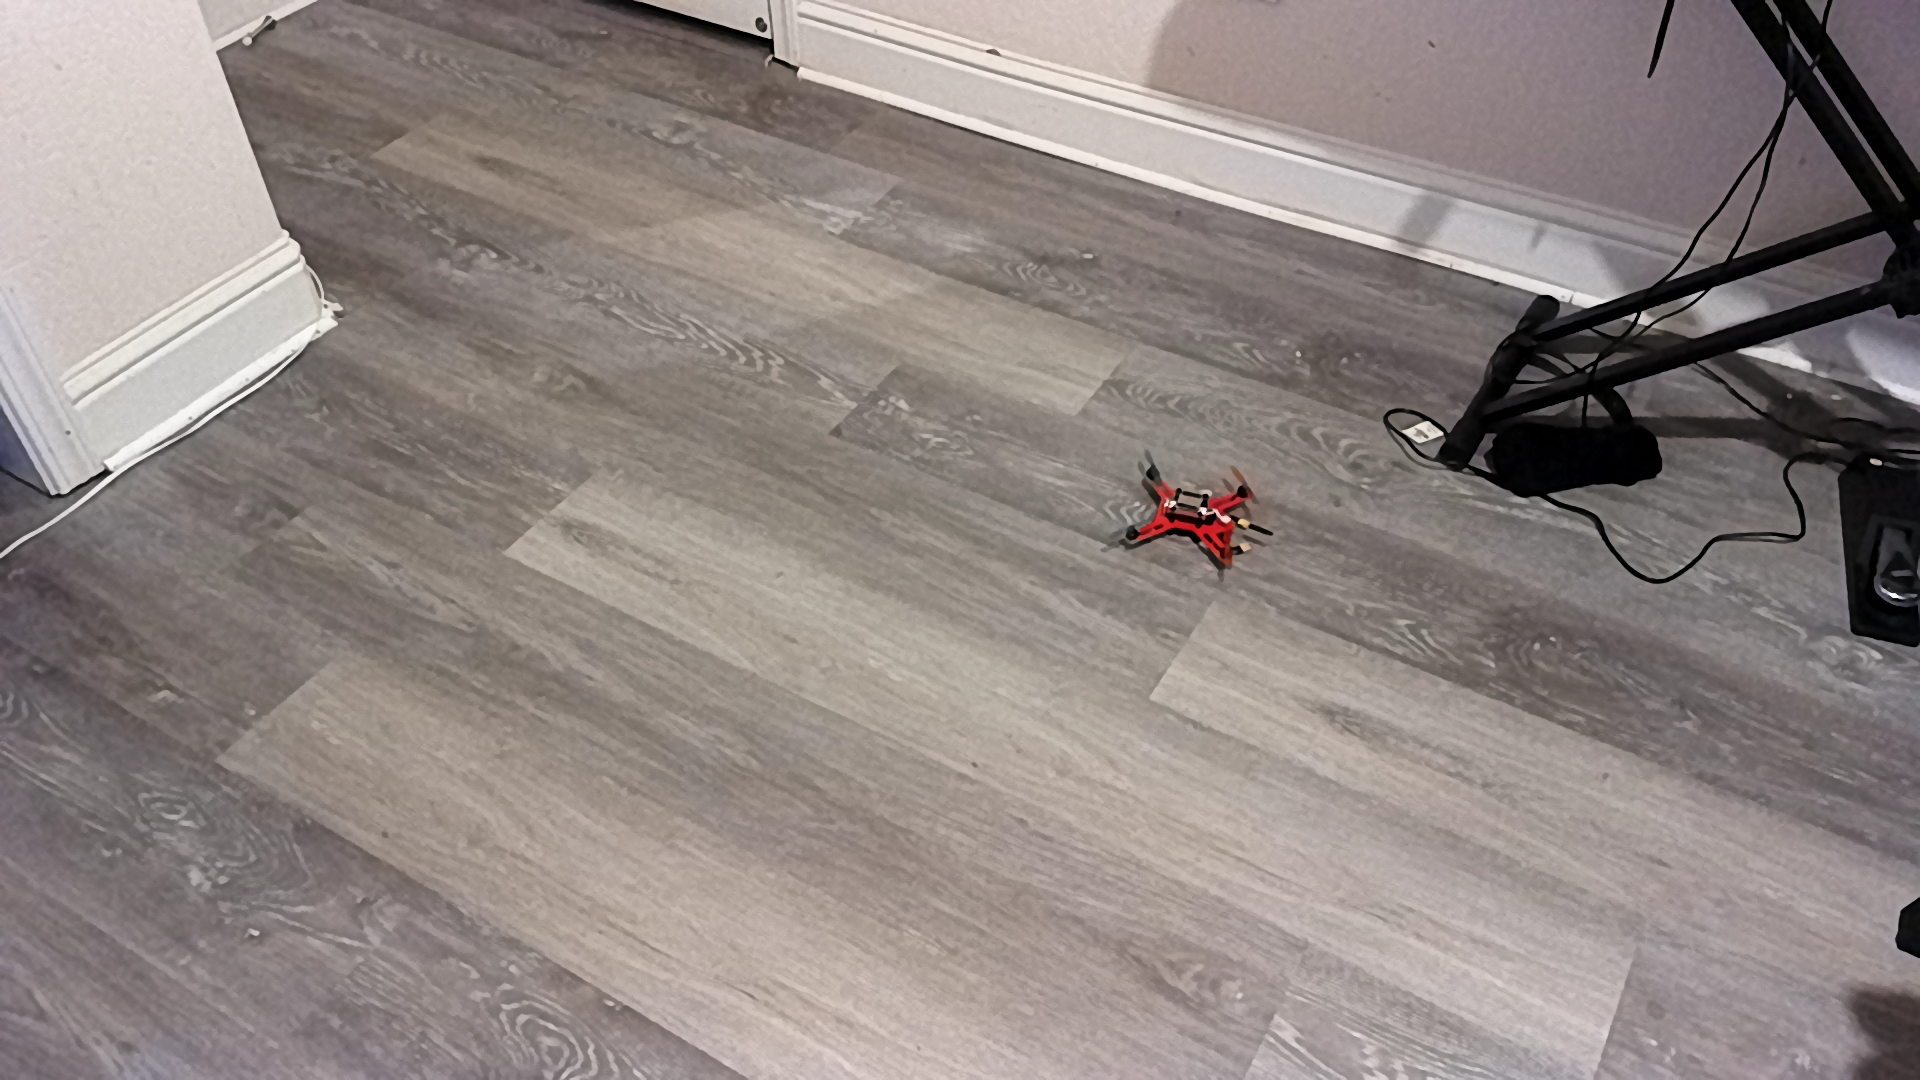drone: (1087, 442, 1279, 592)
